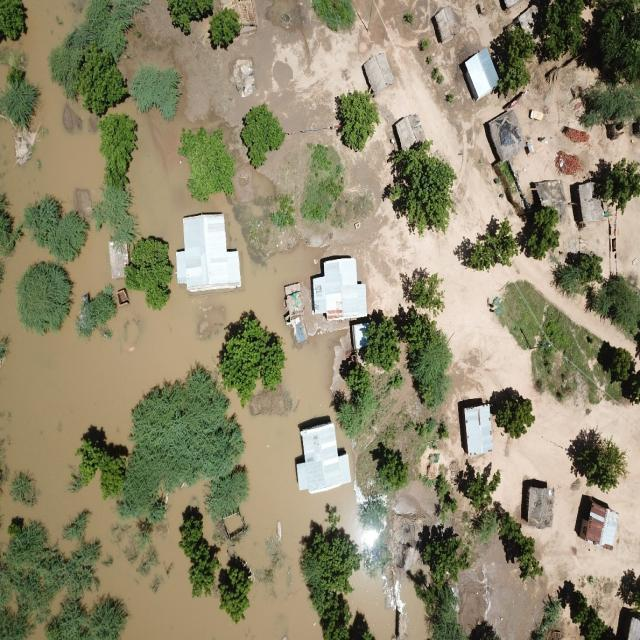flood: (0, 229, 361, 640), (0, 0, 103, 222), (120, 102, 230, 250), (350, 571, 395, 640), (406, 592, 427, 640)
house: (179, 207, 237, 290), (295, 418, 347, 487), (310, 255, 365, 318), (460, 46, 499, 102), (487, 110, 528, 162), (456, 397, 489, 459), (522, 484, 556, 530), (364, 50, 396, 95), (569, 180, 599, 226), (392, 113, 426, 149), (432, 6, 462, 44), (574, 494, 600, 537), (536, 177, 564, 211), (617, 605, 640, 640), (222, 510, 248, 534)
